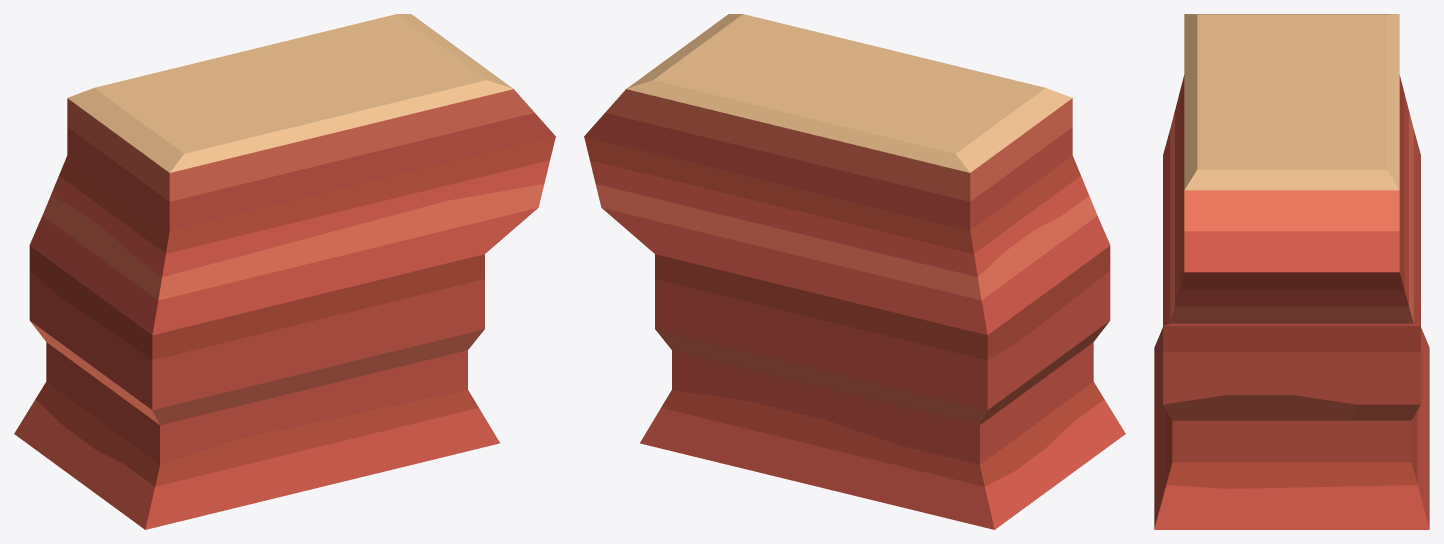
File: StoneWall009.fbx
3 renders of one model, left to right at view 1: azimuth 30°, elevation 25°; view 2: azimuth 150°, elevation 25°; view 3: azimuth 270°, elevation 25°, orthographic. The views are drawn at different scales.
Parts seen in each view (by area): view 1: StoneWall009; view 2: StoneWall009; view 3: StoneWall009.
Part boxes in pixels (x1,y1,x2,y2): StoneWall009: [14, 14, 555, 529]; StoneWall009: [584, 14, 1125, 529]; StoneWall009: [1154, 14, 1429, 529].
Size of the model in its own units: 619 by 482 by 331.
